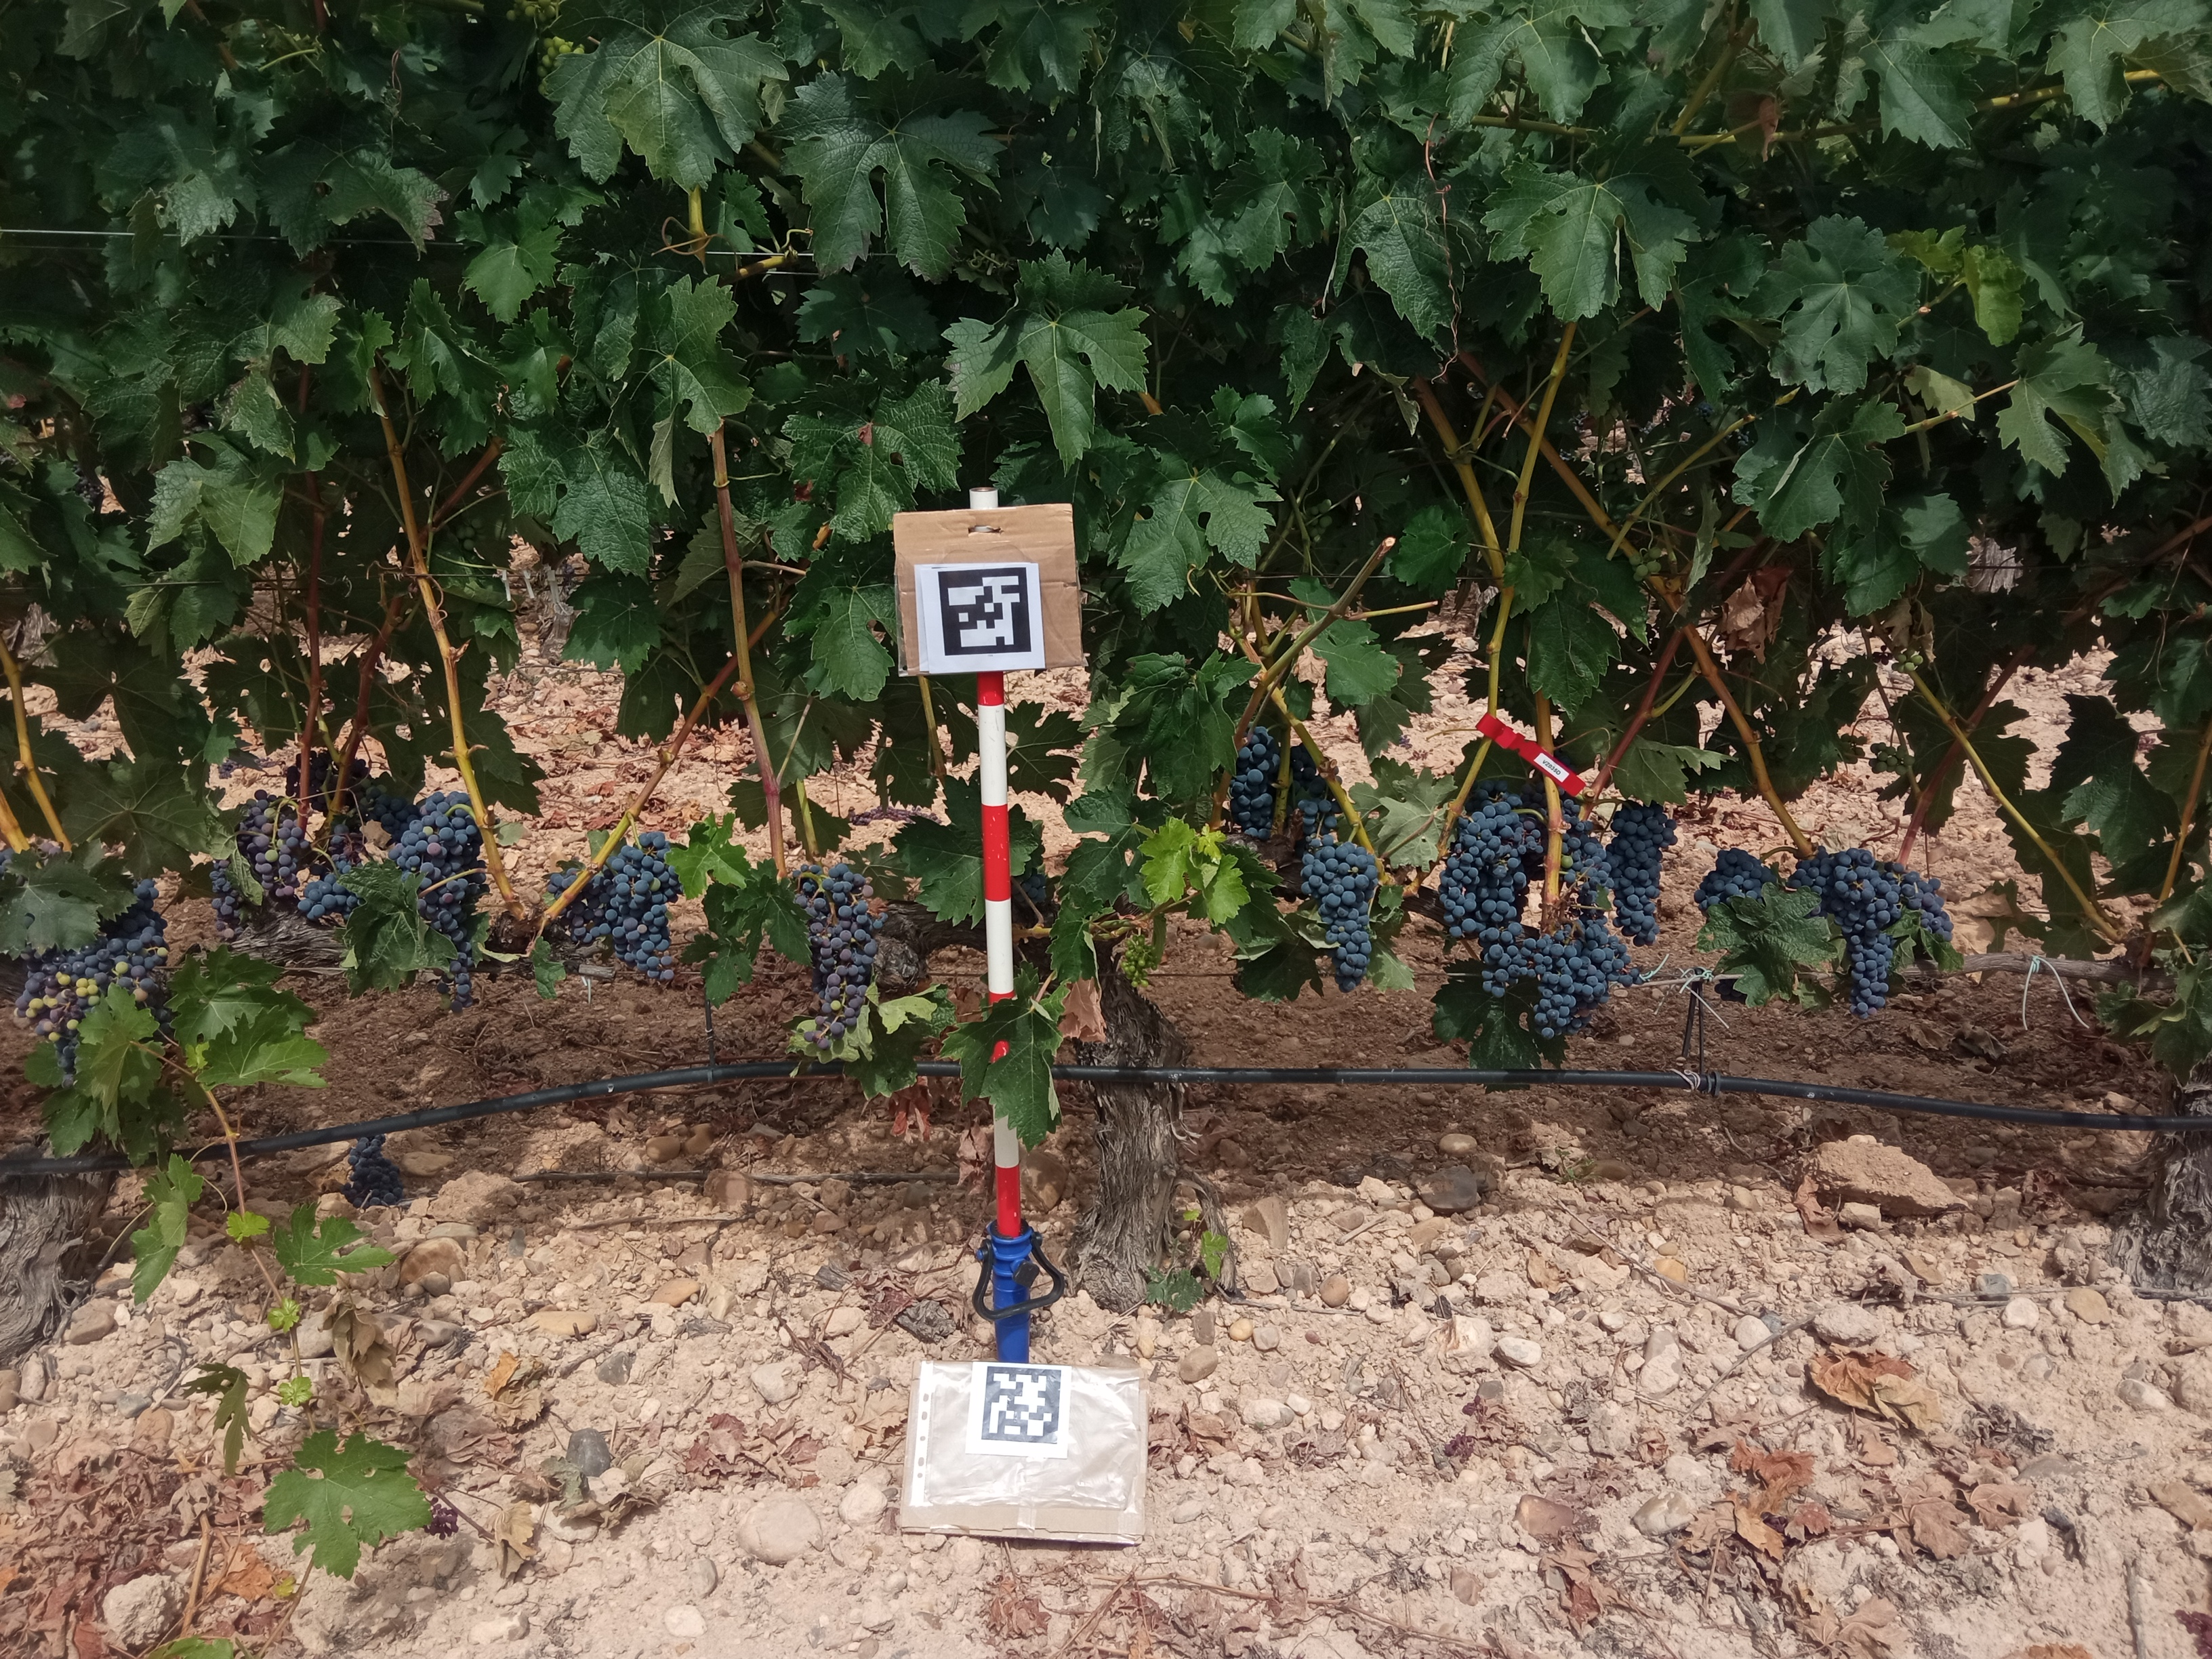grapes: (1789, 852, 1900, 1021), (1479, 925, 1641, 1039), (792, 861, 881, 1054), (1439, 777, 1543, 931), (390, 791, 488, 938), (19, 936, 108, 1086), (1305, 835, 1378, 993), (110, 877, 169, 1047), (282, 748, 402, 828), (615, 833, 679, 979), (1611, 798, 1660, 945), (242, 789, 301, 903), (547, 859, 613, 945), (300, 824, 359, 917), (1564, 803, 1609, 918), (1691, 847, 1777, 908), (1231, 725, 1277, 838), (1291, 746, 1341, 833), (1904, 868, 1952, 943), (202, 854, 244, 936), (437, 936, 479, 1012), (1871, 645, 1925, 676), (1869, 742, 1914, 777), (1299, 500, 1332, 542), (1014, 870, 1047, 906), (1629, 545, 1662, 582), (455, 518, 486, 551), (1712, 978, 1747, 1002), (1839, 734, 1867, 762)
